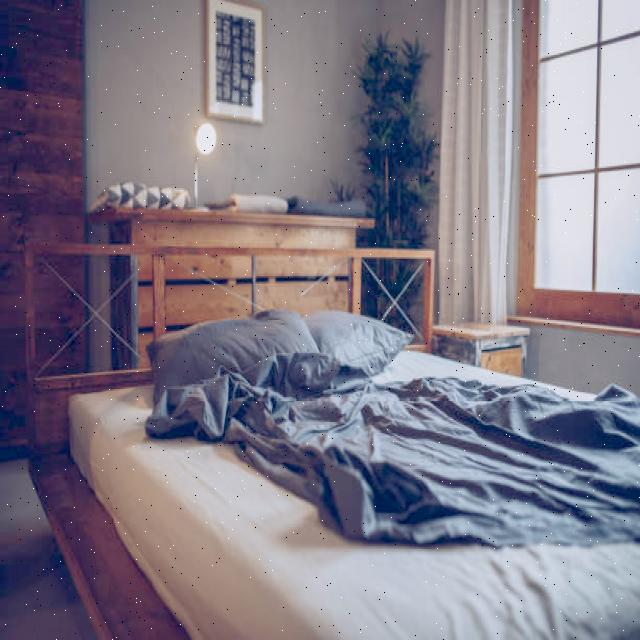bed: (68, 304, 639, 640)
